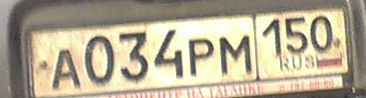character: (116, 27, 154, 86), (81, 34, 118, 86), (217, 32, 256, 76), (156, 27, 187, 81), (49, 47, 83, 92), (185, 34, 215, 79), (260, 16, 285, 60), (283, 14, 308, 56), (308, 15, 333, 56)
